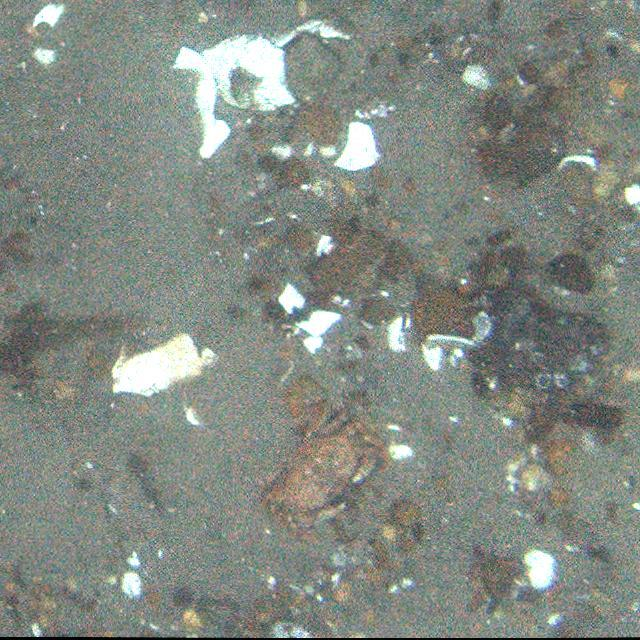crab: (256, 406, 384, 538)
